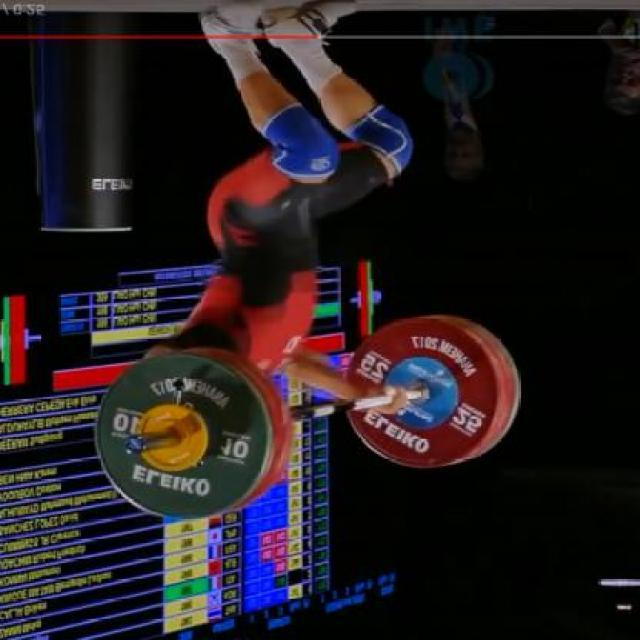Barbell: (118, 428, 154, 462)
